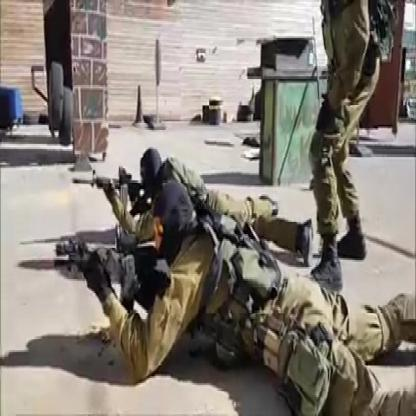Gun: (47, 229, 152, 296), (70, 163, 144, 201)
